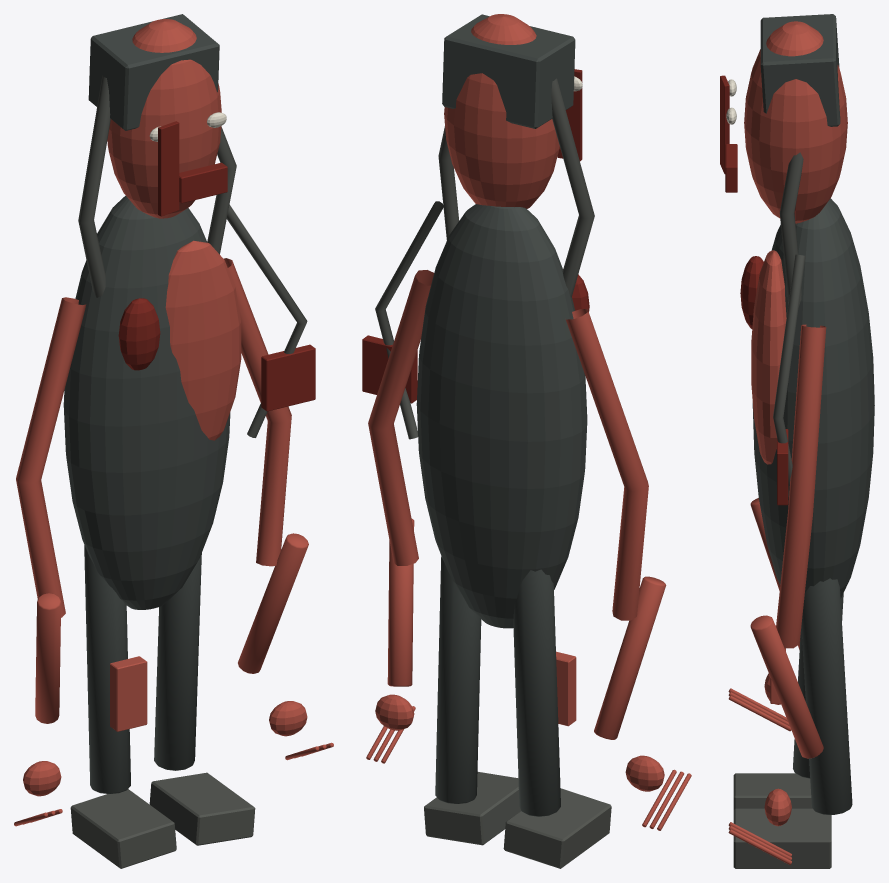
File: dz_enemy_runner_female_B.glb
The picture shows the model from 3 angles, left to right: view 1: azimuth 30°, elevation 25°; view 2: azimuth 150°, elevation 25°; view 3: azimuth 270°, elevation 25°; orthographic projection.
Parts seen in each view (by area): view 1: dz_torso_core, dz_head_forward, dz_chest_infected_growth, dz_limb_arm_L, dz_limb_leg_R, dz_limb_leg_L, dz_low_hood_fast, dz_foot_drag_L, dz_limb_arm_R, dz_foot_drag_R, dz_limb_forearm_R, dz_hair_clump_left (+10 smaller); view 2: dz_torso_core, dz_head_forward, dz_limb_leg_L, dz_limb_leg_R, dz_low_hood_fast, dz_limb_arm_L, dz_limb_arm_R, dz_foot_drag_L, dz_foot_drag_R, dz_limb_forearm_L, dz_hair_clump_left, dz_limb_forearm_R (+7 smaller); view 3: dz_torso_core, dz_head_forward, dz_limb_leg_R, dz_limb_arm_R, dz_chest_infected_growth, dz_low_hood_fast, dz_foot_drag_R, dz_limb_forearm_R, dz_foot_drag_L, dz_variant_B_loose_cable_or_hair, dz_hair_clump_right, dz_variant_B_weak_growth (+8 smaller).
Part boxes in pixels (x1=…): dz_torso_core: x1=63, y1=195, x2=230, y2=609; dz_head_forward: x1=107, y1=19, x2=221, y2=218; dz_chest_infected_growth: x1=165, y1=240, x2=241, y2=440; dz_limb_arm_L: x1=16, y1=297, x2=86, y2=617; dz_limb_leg_R: x1=154, y1=553, x2=201, y2=770; dz_limb_leg_L: x1=84, y1=545, x2=130, y2=793; dz_low_hood_fast: x1=88, y1=14, x2=219, y2=130; dz_foot_drag_L: x1=70, y1=789, x2=176, y2=868; dz_limb_arm_R: x1=224, y1=258, x2=291, y2=566; dz_foot_drag_R: x1=149, y1=772, x2=255, y2=845; dz_limb_forearm_R: x1=238, y1=533, x2=308, y2=673; dz_hair_clump_left: x1=78, y1=76, x2=110, y2=297; dz_torso_core: x1=416, y1=204, x2=587, y2=628; dz_head_forward: x1=444, y1=14, x2=559, y2=208; dz_limb_leg_L: x1=513, y1=569, x2=560, y2=816; dz_limb_leg_R: x1=435, y1=556, x2=481, y2=803; dz_low_hood_fast: x1=442, y1=14, x2=575, y2=128; dz_limb_arm_L: x1=565, y1=309, x2=648, y2=620; dz_limb_arm_R: x1=368, y1=270, x2=434, y2=565; dz_foot_drag_L: x1=503, y1=788, x2=611, y2=868; dz_foot_drag_R: x1=424, y1=772, x2=521, y2=845; dz_limb_forearm_L: x1=594, y1=576, x2=666, y2=739; dz_hair_clump_left: x1=551, y1=78, x2=594, y2=297; dz_limb_forearm_R: x1=387, y1=519, x2=414, y2=686; dz_torso_core: x1=752, y1=198, x2=874, y2=598; dz_head_forward: x1=744, y1=21, x2=847, y2=223; dz_limb_leg_R: x1=801, y1=578, x2=852, y2=814; dz_limb_arm_R: x1=776, y1=324, x2=826, y2=648; dz_chest_infected_growth: x1=751, y1=250, x2=786, y2=464; dz_low_hood_fast: x1=760, y1=14, x2=840, y2=126; dz_foot_drag_R: x1=733, y1=808, x2=831, y2=868; dz_limb_forearm_R: x1=750, y1=615, x2=823, y2=758; dz_foot_drag_L: x1=733, y1=773, x2=812, y2=809; dz_variant_B_loose_cable_or_hair: x1=773, y1=254, x2=805, y2=496; dz_hair_clump_right: x1=779, y1=152, x2=803, y2=307; dz_variant_B_weak_growth: x1=740, y1=256, x2=763, y2=328.
Size of what is drawn, in the model's own units: 0.7749 by 2.03 by 0.348.
